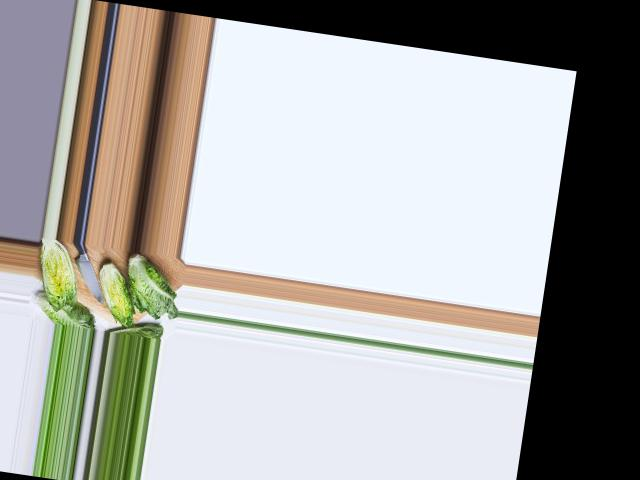lettuce: (33, 291, 97, 327)
